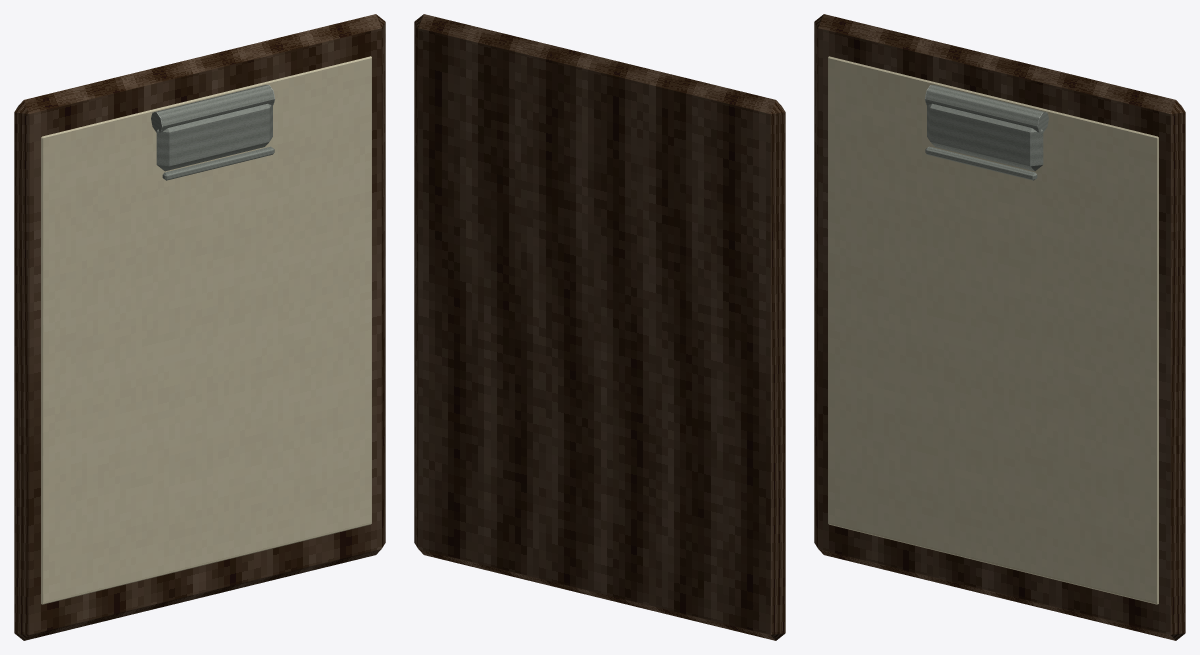
Rendered from blender_clipboards_fixed.glb.
3 views of the same model, side by side, from view 1: azimuth 30°, elevation 25°; view 2: azimuth 150°, elevation 25°; view 3: azimuth 330°, elevation 25° (orthographic).
Visible parts, largest first — view 1: blender_clipboards_fixed; view 2: blender_clipboards_fixed; view 3: blender_clipboards_fixed.
Part boxes in pixels (bbox=[...]): blender_clipboards_fixed: bbox=[14, 14, 385, 640]; blender_clipboards_fixed: bbox=[414, 14, 785, 640]; blender_clipboards_fixed: bbox=[814, 14, 1185, 640].
Size of the model in its own units: 0.23 by 0.32 by 0.028.
Materials: 3 (3 with a texture image).
